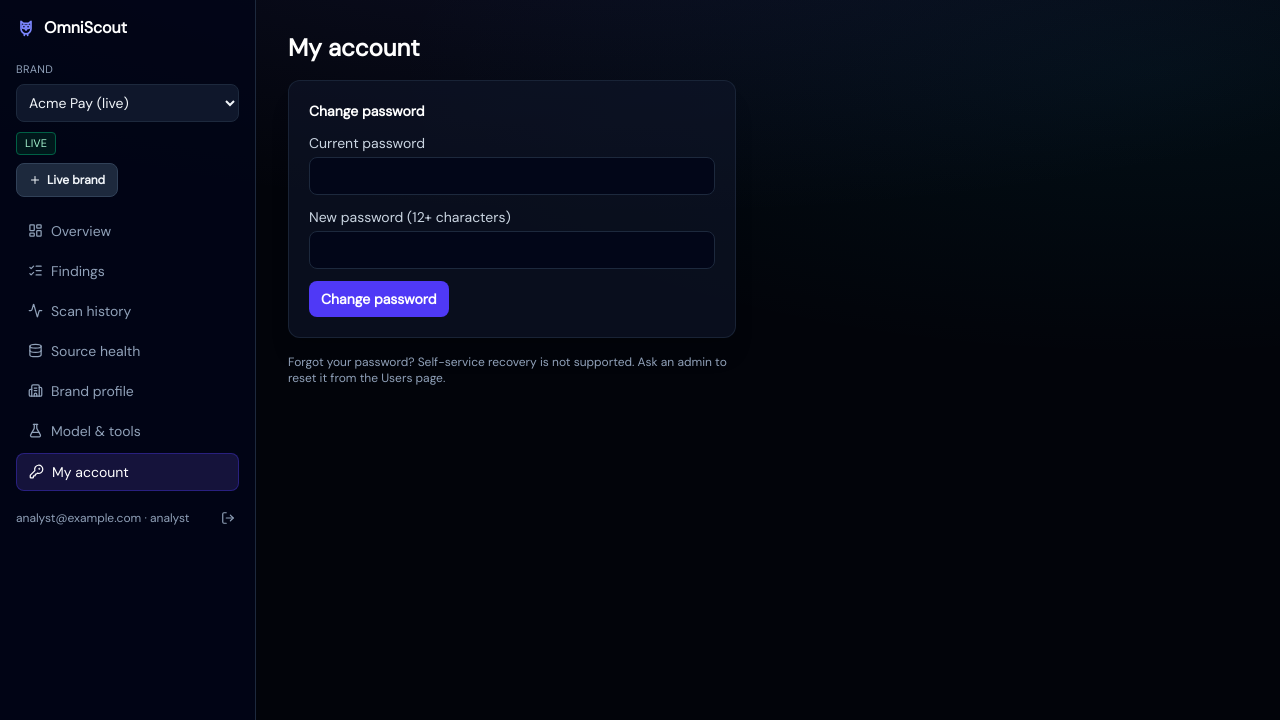
Test: dashboard › lets a user change their password and says other sessions were signed out
Type "old-password-123" into the password field labelled "Current password" at (512, 176), box [309, 157, 715, 195]
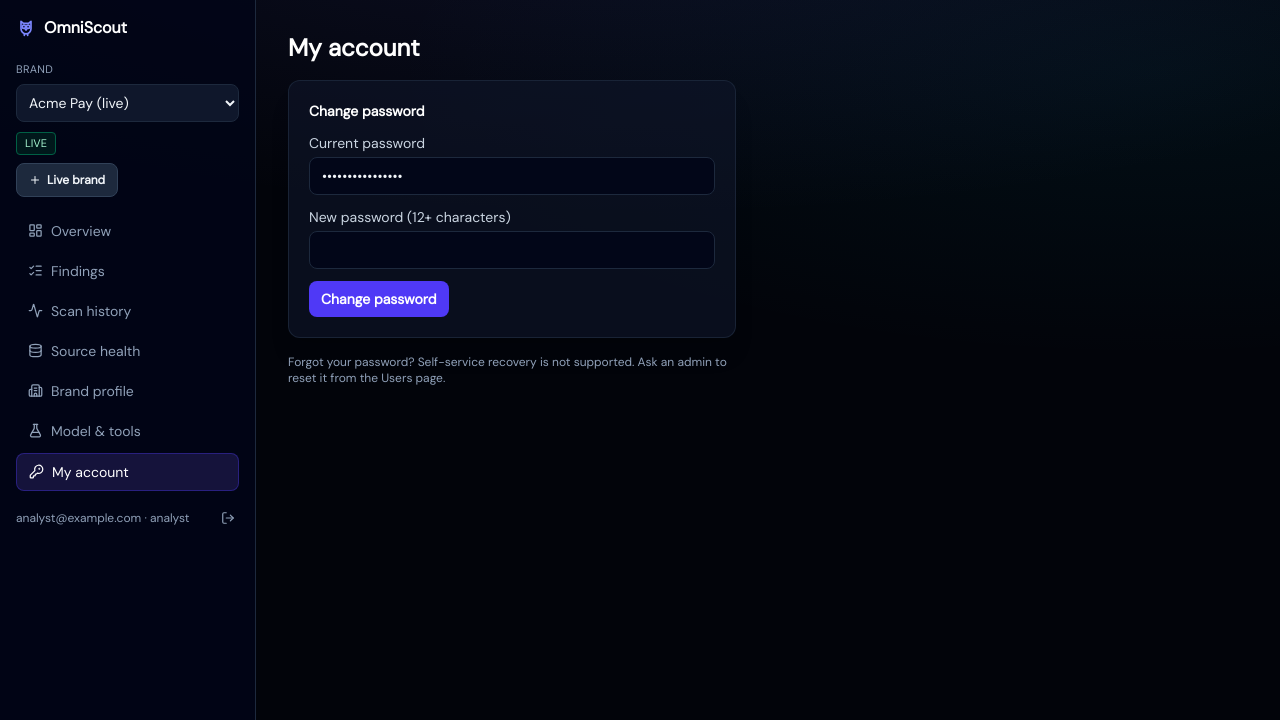
Type "new-password-1234" into the password field labelled "New password (12+ characters)" at (512, 250), box [309, 231, 715, 269]
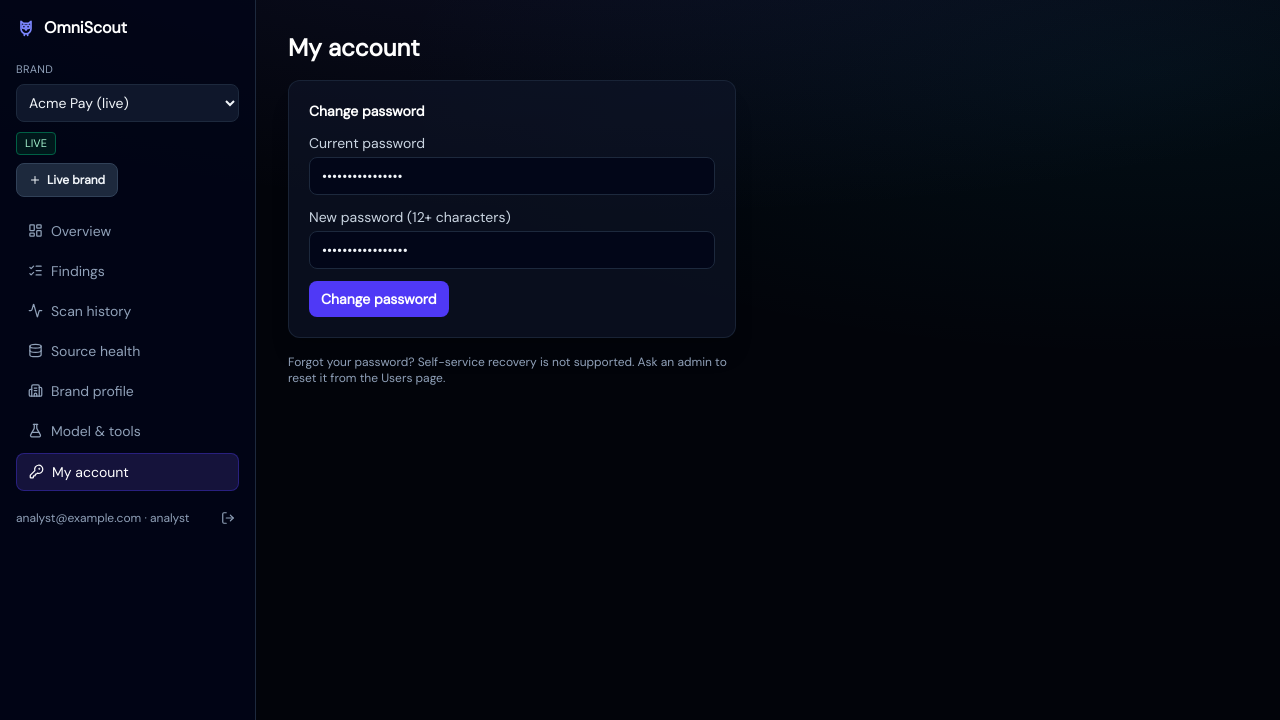
Click the button "Change password" at (379, 299), box [309, 281, 448, 317]
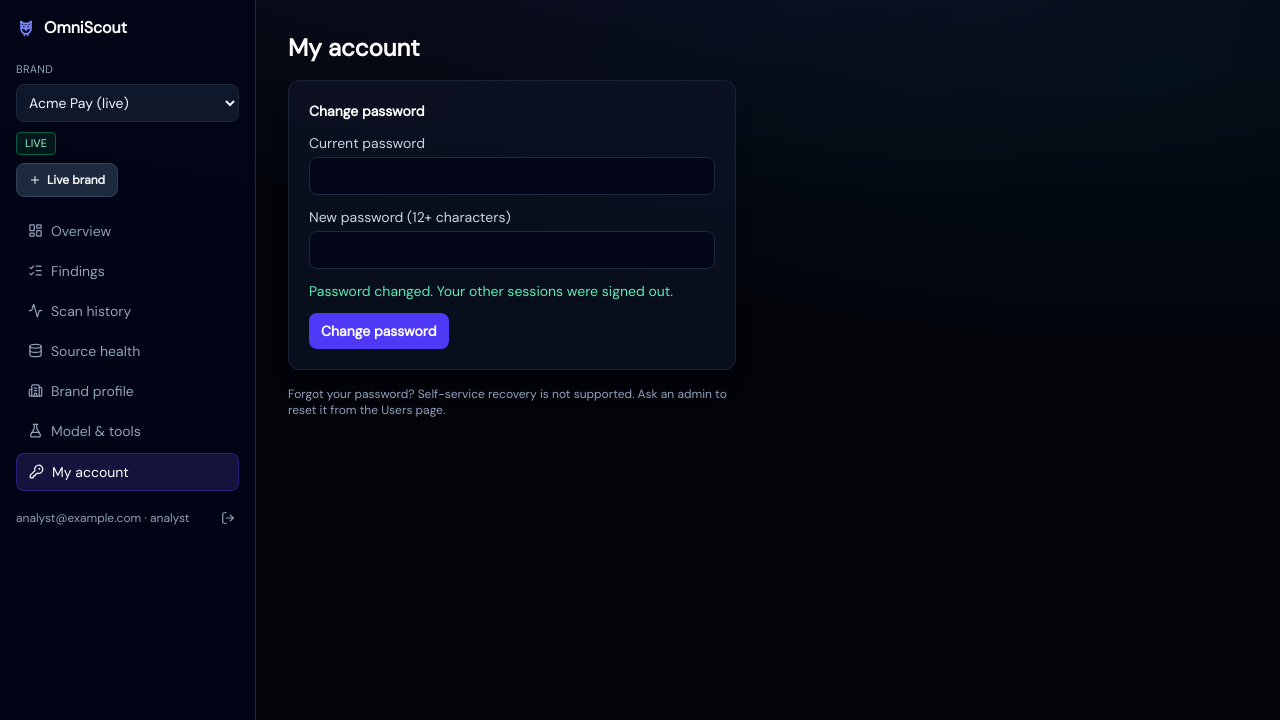
Expected: the message shows "other sessions were signed out", [309, 282, 673, 300]
